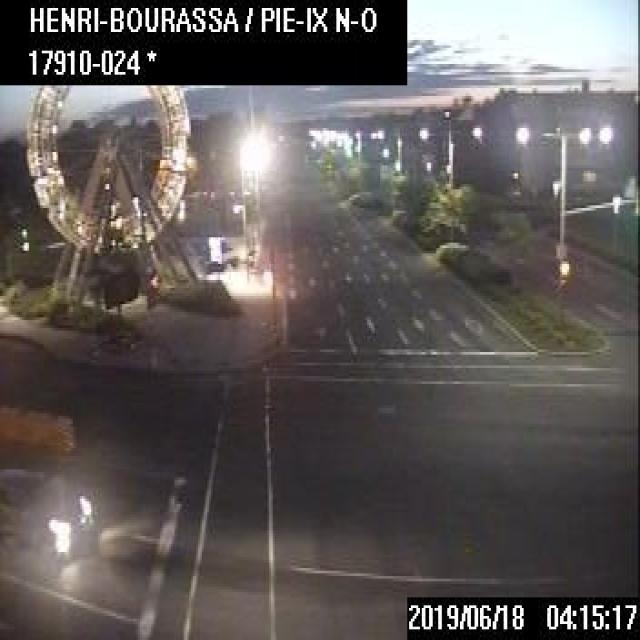construction: (101, 270, 137, 348)
vehicle: (0, 466, 95, 554)
